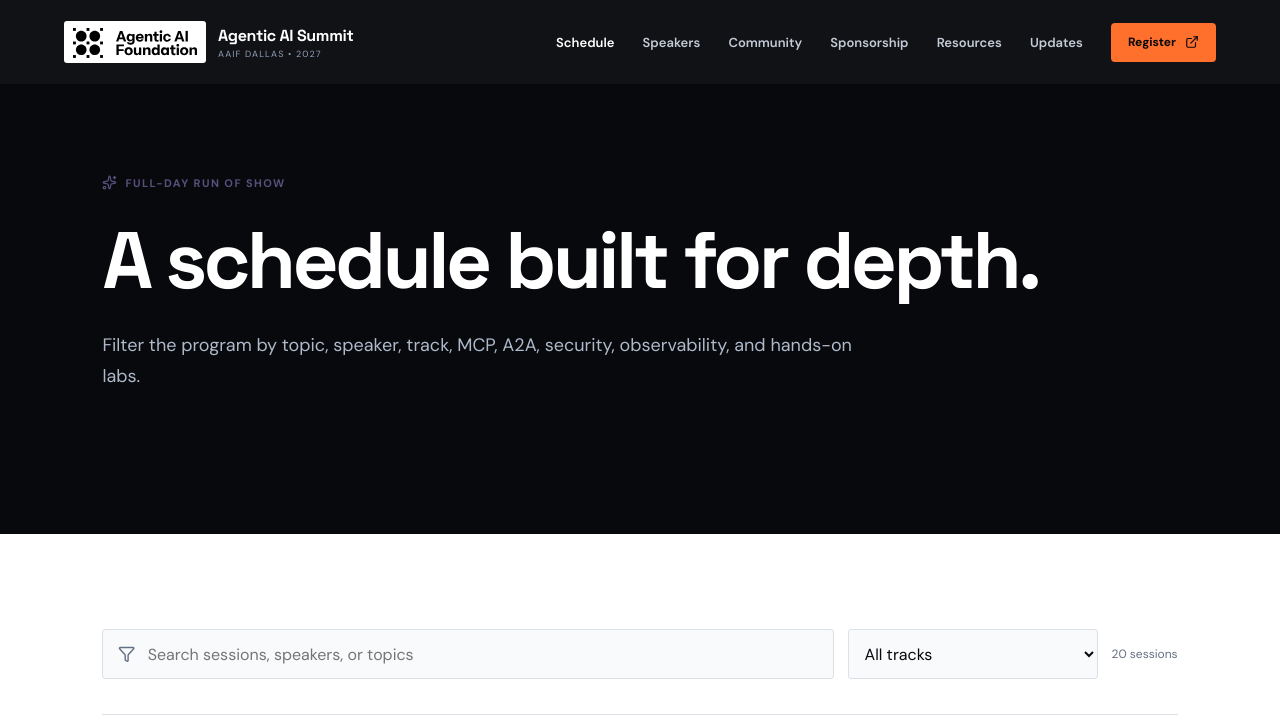
Scenario: filters schedule sessions by topic
In the field with placeholder "Search sessions, speakers, or topics": point(482, 654) [146,630,818,678], type "MCP"
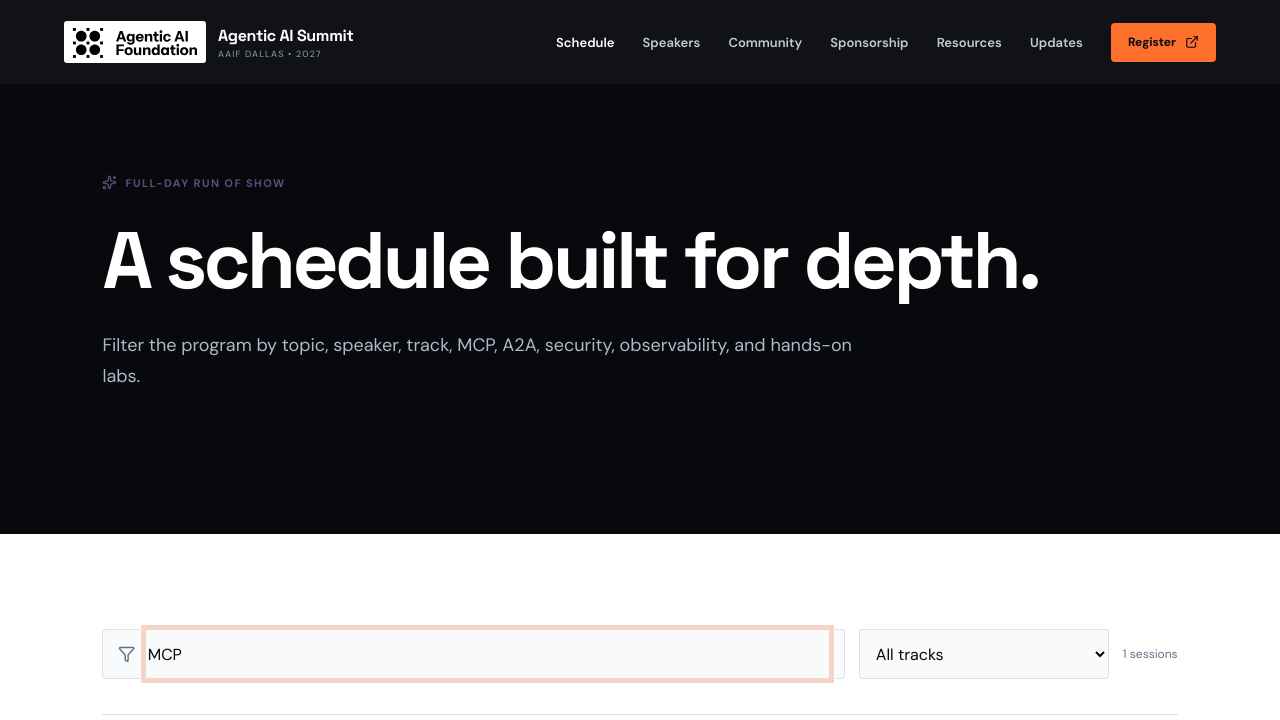
expect the text "1 sessions" is shown: met, box [1123,646,1178,662]
